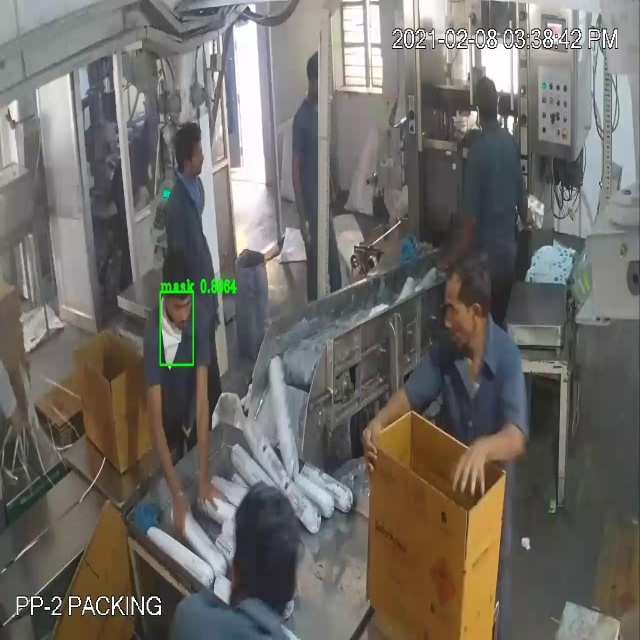Sin_guantes: (144, 376, 195, 544), (457, 412, 536, 506), (184, 343, 223, 526), (354, 376, 414, 466)
